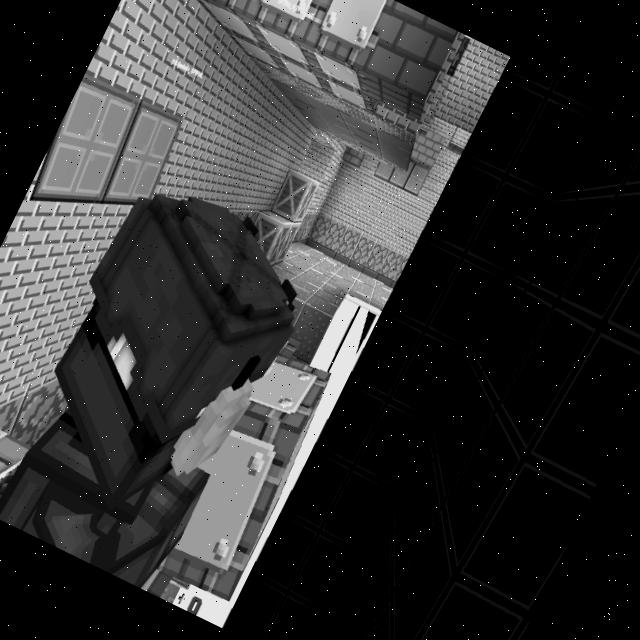Head: (4, 168, 326, 550)
Player: (0, 152, 335, 599)
